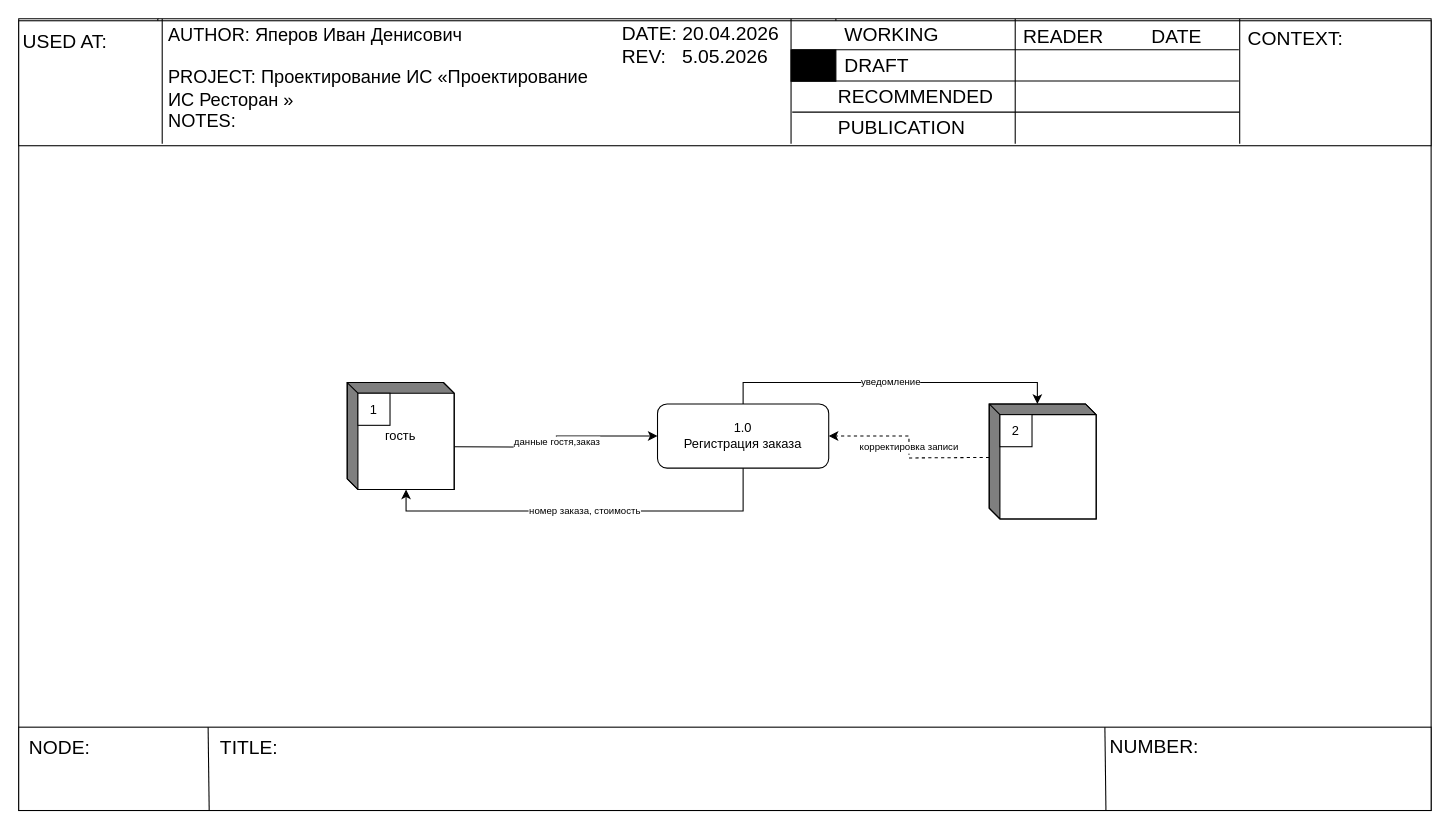
The diagram is 1450 pixels wide and 830 high, and some of its shapes have lost their labels. Here are the shapes that lost their labels. From the top down, the box of each, then its label:
(988, 403, 1096, 519): офицант
(18, 726, 1431, 811): Процесс регистрации заказа в системе компании
